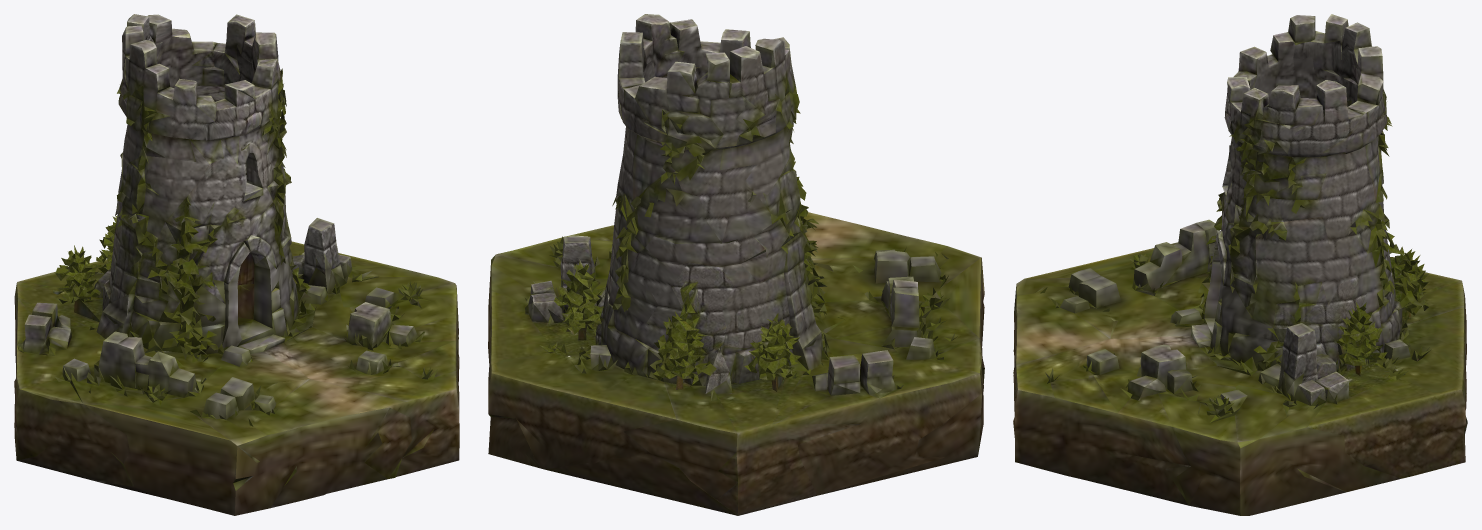
File: tower.glb
3 renders of one model, left to right at view 1: azimuth 30°, elevation 25°; view 2: azimuth 150°, elevation 25°; view 3: azimuth 270°, elevation 25°, orthographic. The views are drawn at different scales.
Size of the model in its own units: 2.36 by 1.83 by 2.08.
Materials: 1 (1 with a texture image).
